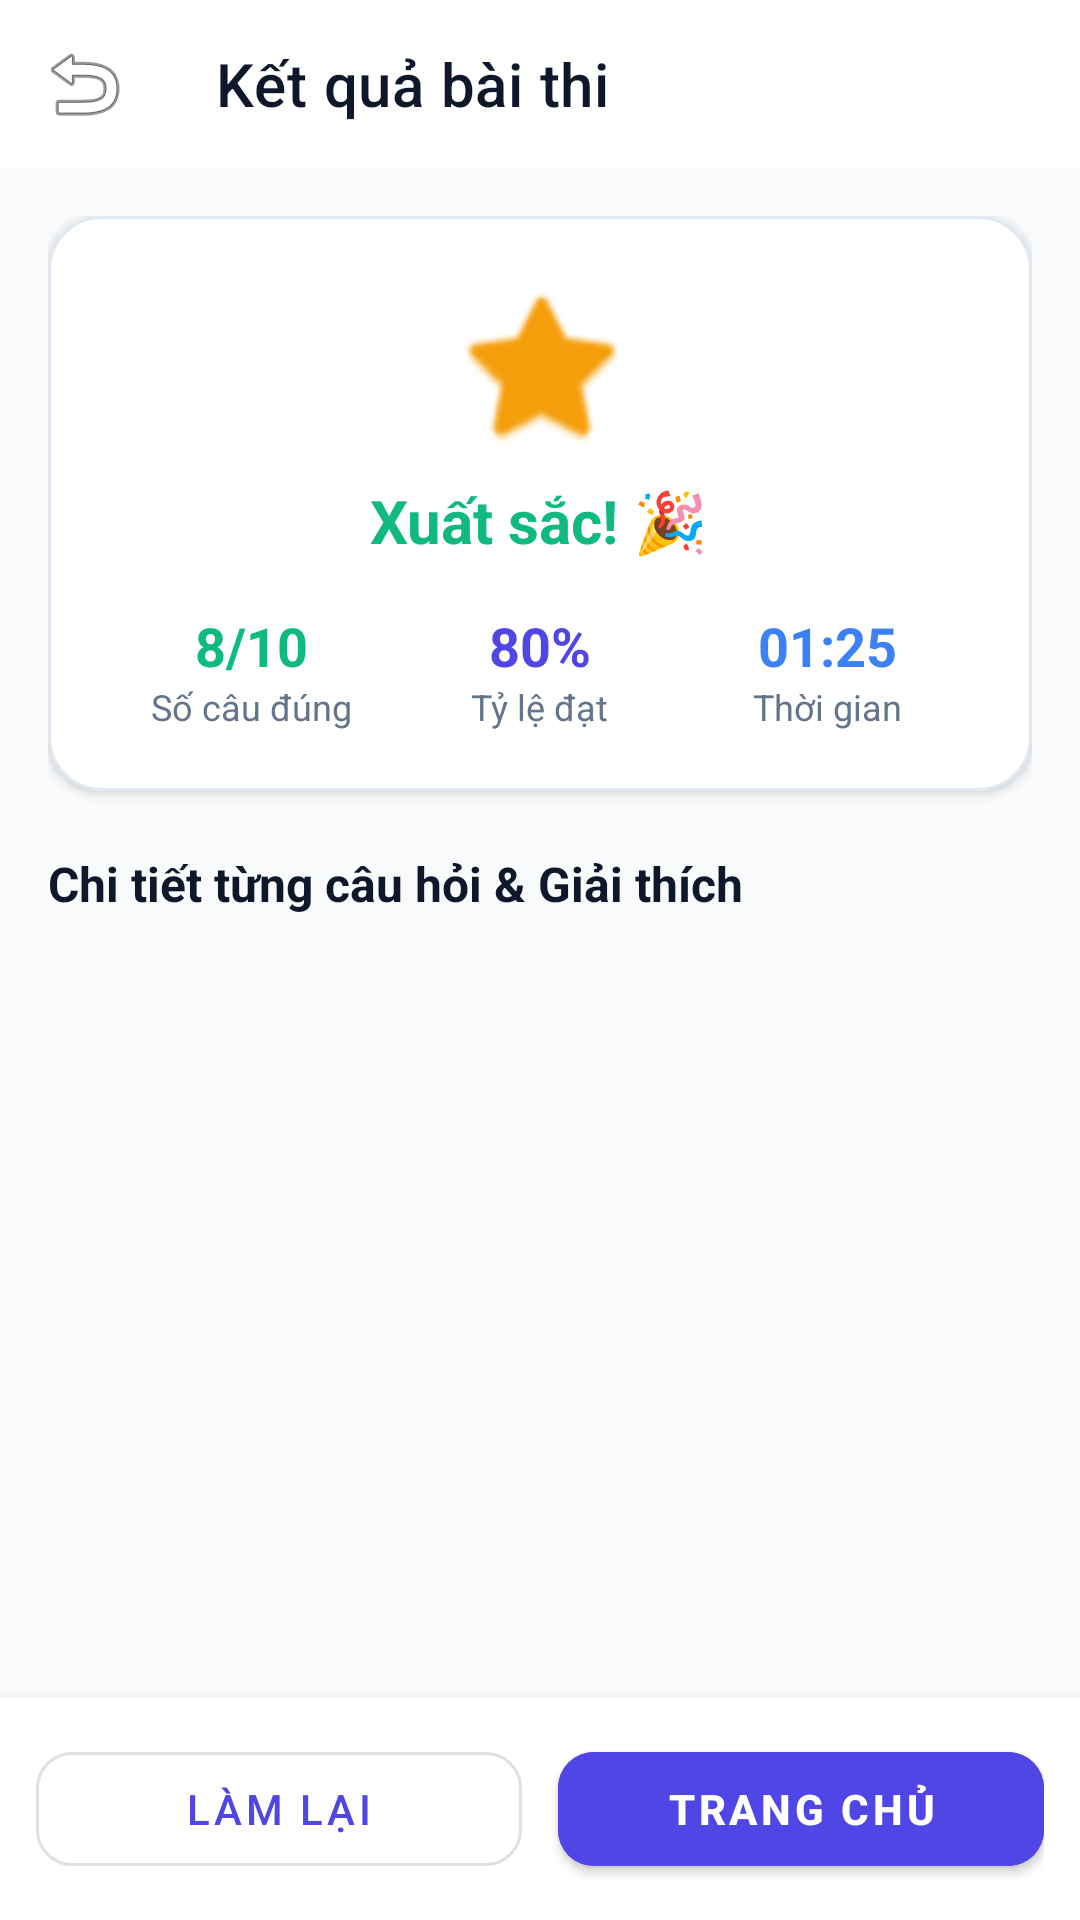

Screen size 1080px×1920px. Icon name, then its center in pixels as (x=x, y=y):
star on: (x=541, y=367)
